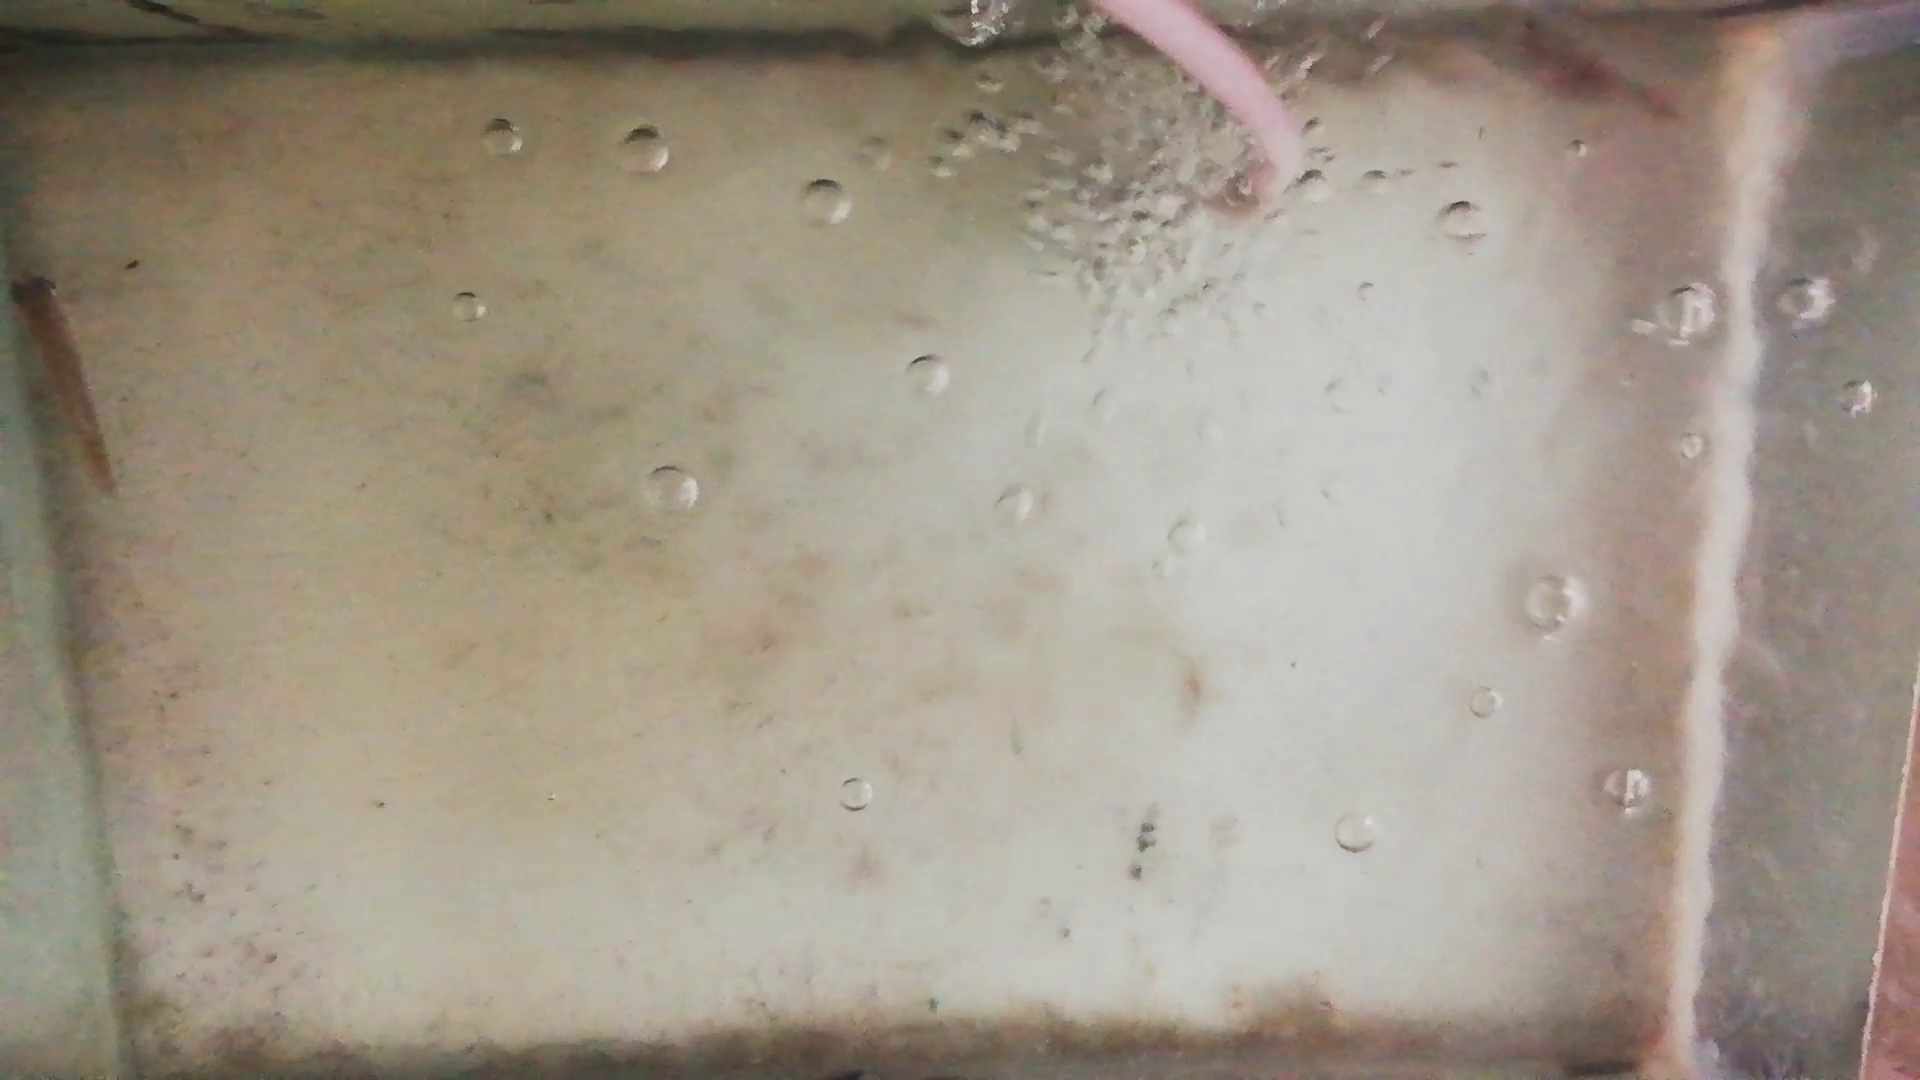fish: (11, 265, 113, 491), (1509, 26, 1664, 112)
